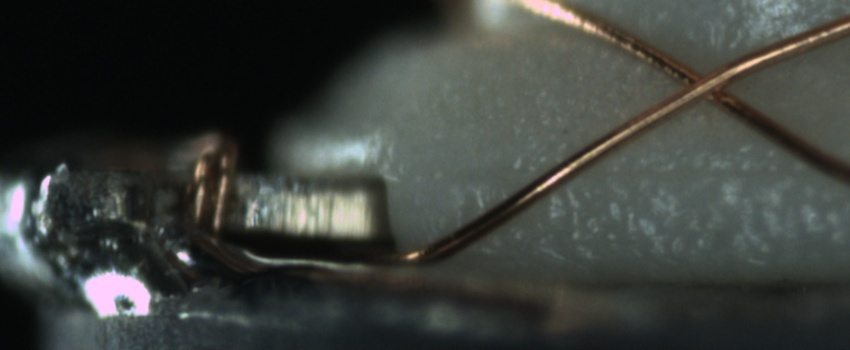CL: (657, 49, 753, 116)
DL: (478, 142, 850, 201)
TE: (179, 122, 251, 248)
